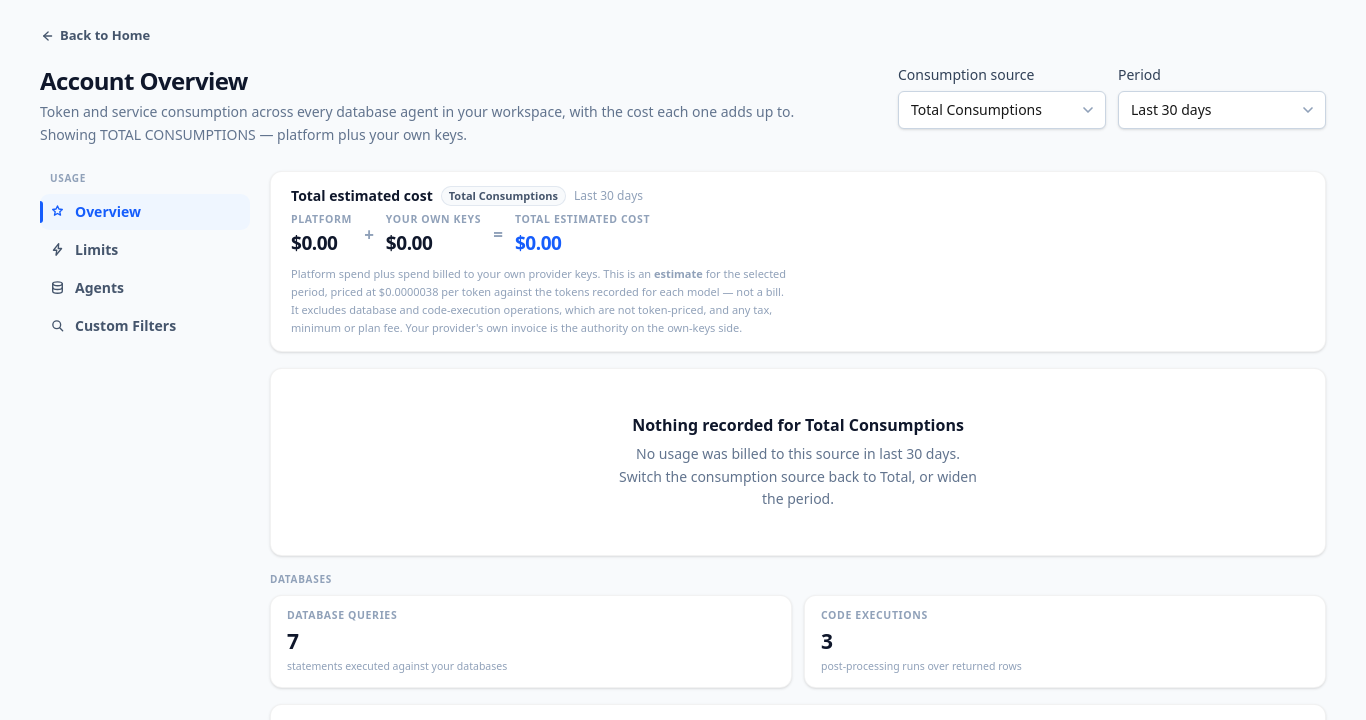
Test: Custom Filters › offers a way out of a combination with nothing behind it
Click the button "Custom Filters" at (145, 326), box [40,308,250,344]
(page scrolled)
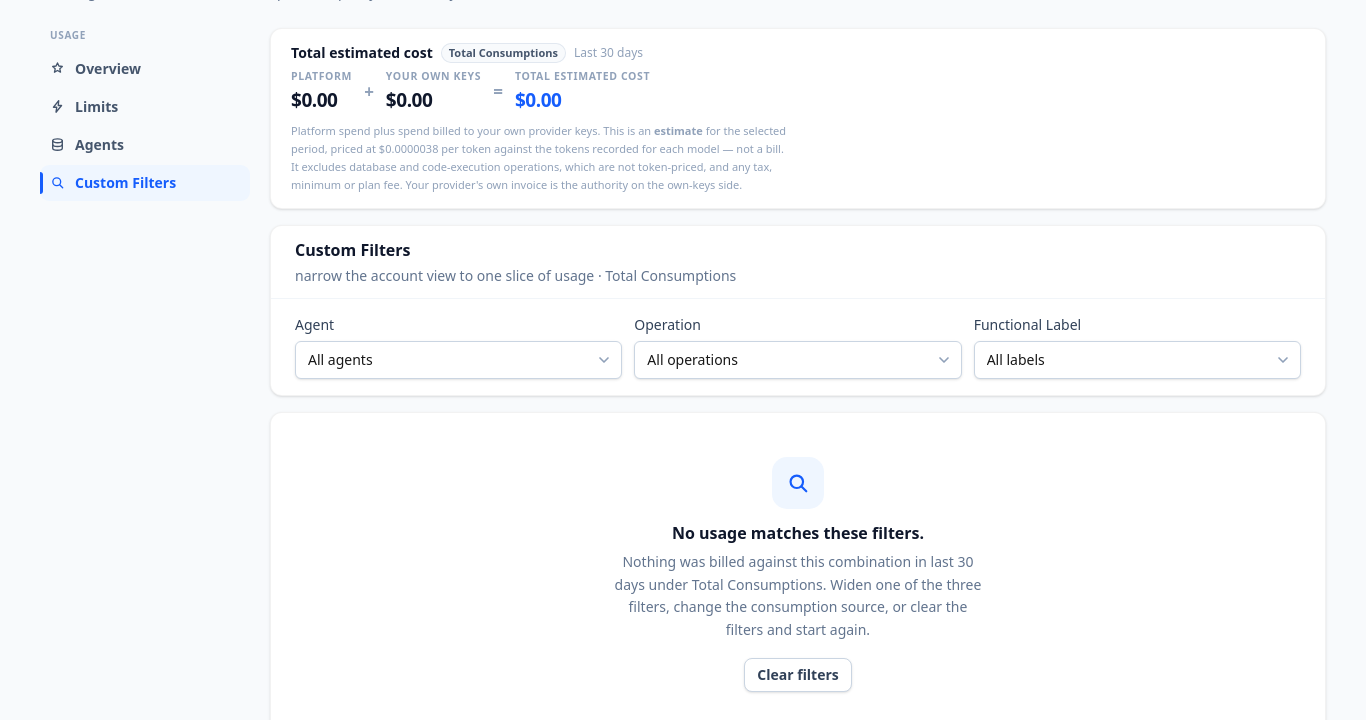
Expected: the text "No usage matches these filters." is shown, [672,522,924,544]
Expected: the button "Clear filters" is shown, [744,658,852,692]
